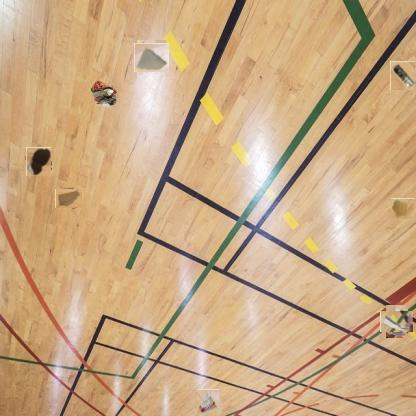dirty: (136, 42, 167, 73), (89, 78, 119, 106), (383, 308, 411, 335), (390, 61, 415, 90), (196, 391, 221, 415), (57, 187, 81, 210)
liquid: (25, 148, 52, 175), (392, 198, 416, 219)
